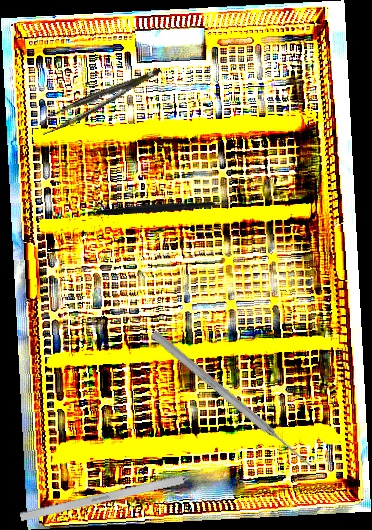Chopper: (95, 157, 238, 252)
Hook Surgical: (19, 465, 223, 523)
Pusher: (148, 328, 315, 471)
Tissue Forceps: (35, 67, 168, 136)
